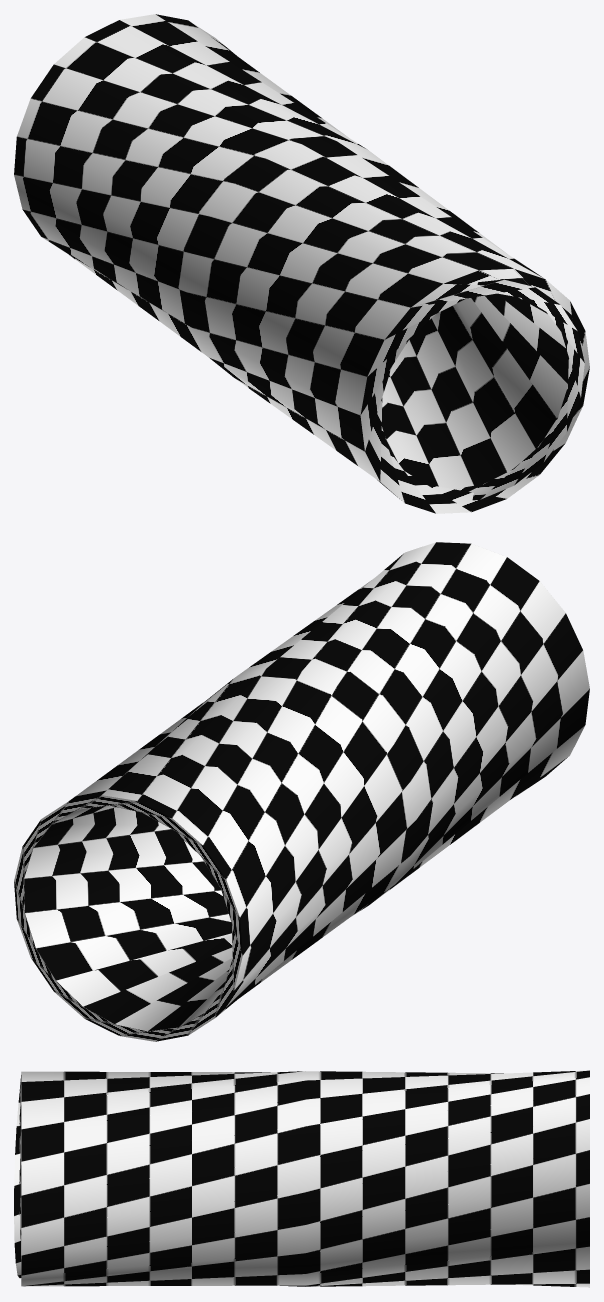
Rendered from barrel.fbx.
3 views of the same model, one above another, from view 1: azimuth 30°, elevation 25°; view 2: azimuth 150°, elevation 25°; view 3: azimuth 270°, elevation 25° (orthographic). The views are drawn at different scales.
Parts seen in each view (by area): view 1: pPipe1; view 2: pPipe1; view 3: pPipe1.
Part boxes in pixels (x1,y1,x2,y2): pPipe1: (14, 14, 589, 513); pPipe1: (14, 542, 589, 1041); pPipe1: (14, 1070, 589, 1287).
Size of the model in its own units: 7.18 by 7.18 by 19.04.
1 material, 1 textured.
